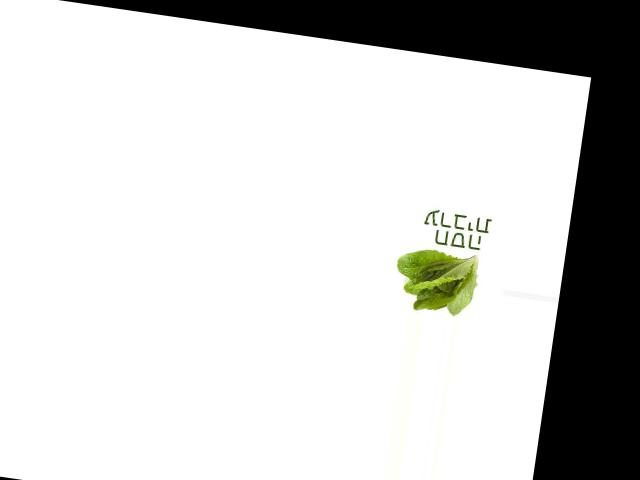lettuce: (390, 237, 487, 319)
